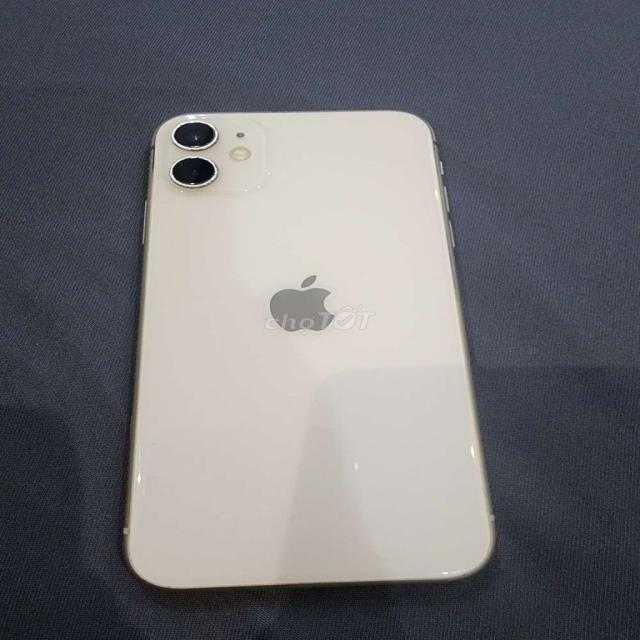gen_11: (120, 103, 506, 600)
